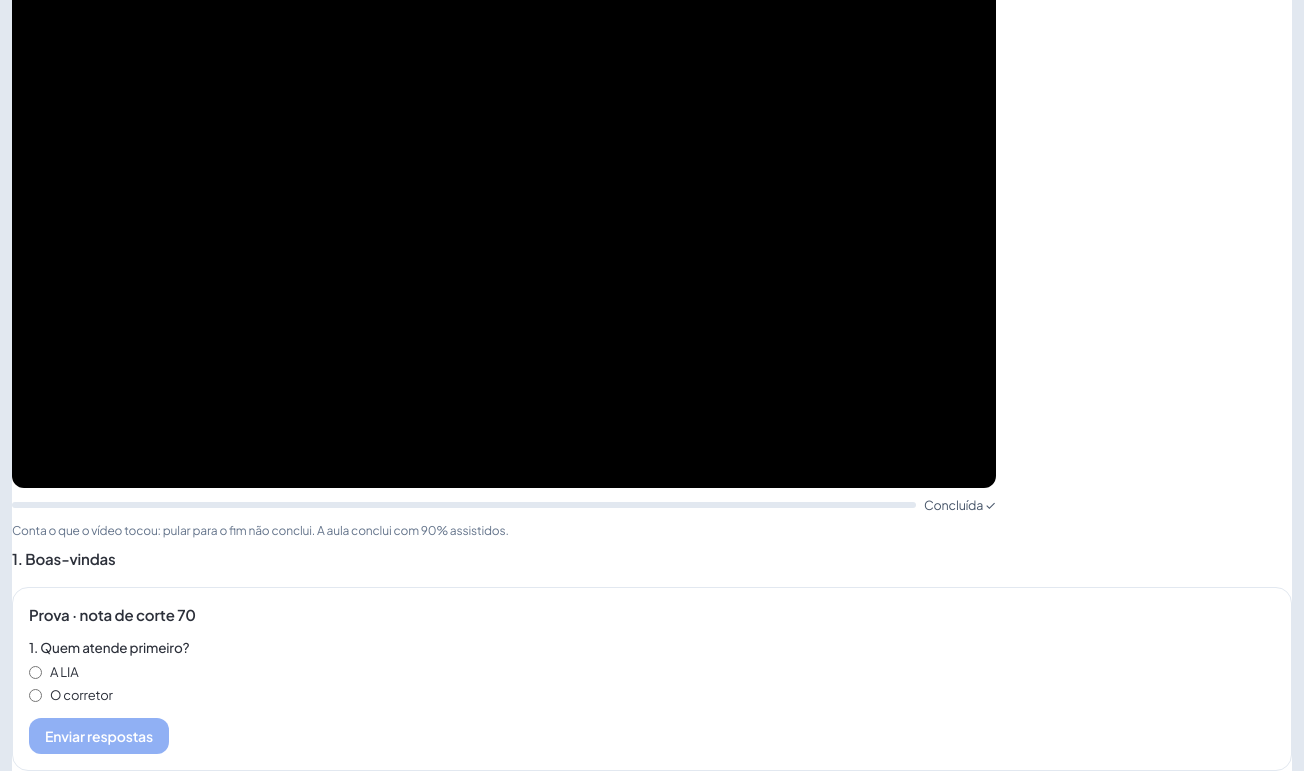
Scenario: A.7 · o curso › com as aulas vistas, responde e mostra o resultado; aprovado ganha o certificado
(page scrolled)
Click the radio button labelled "A LIA": (36, 672) [29,666,42,679]
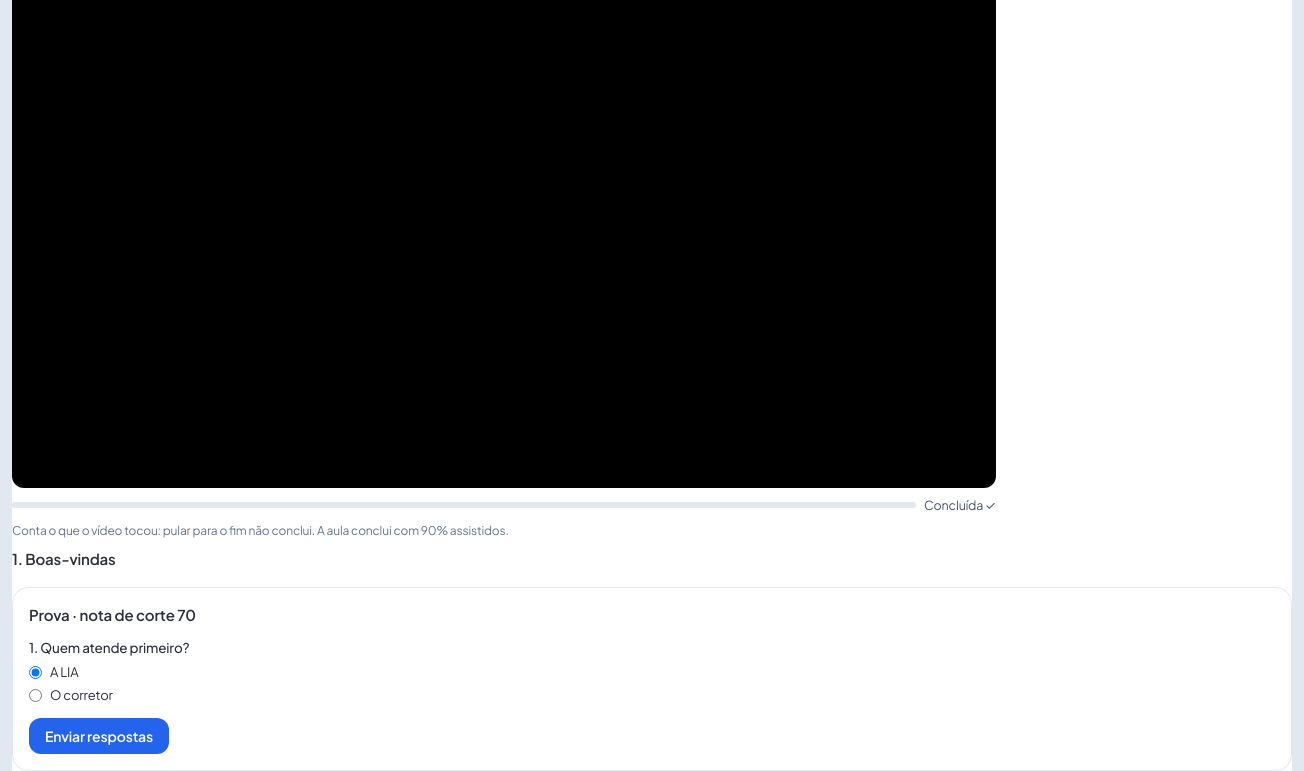
Click the button "Enviar respostas": (99, 736) [29,718,169,754]
(page scrolled)
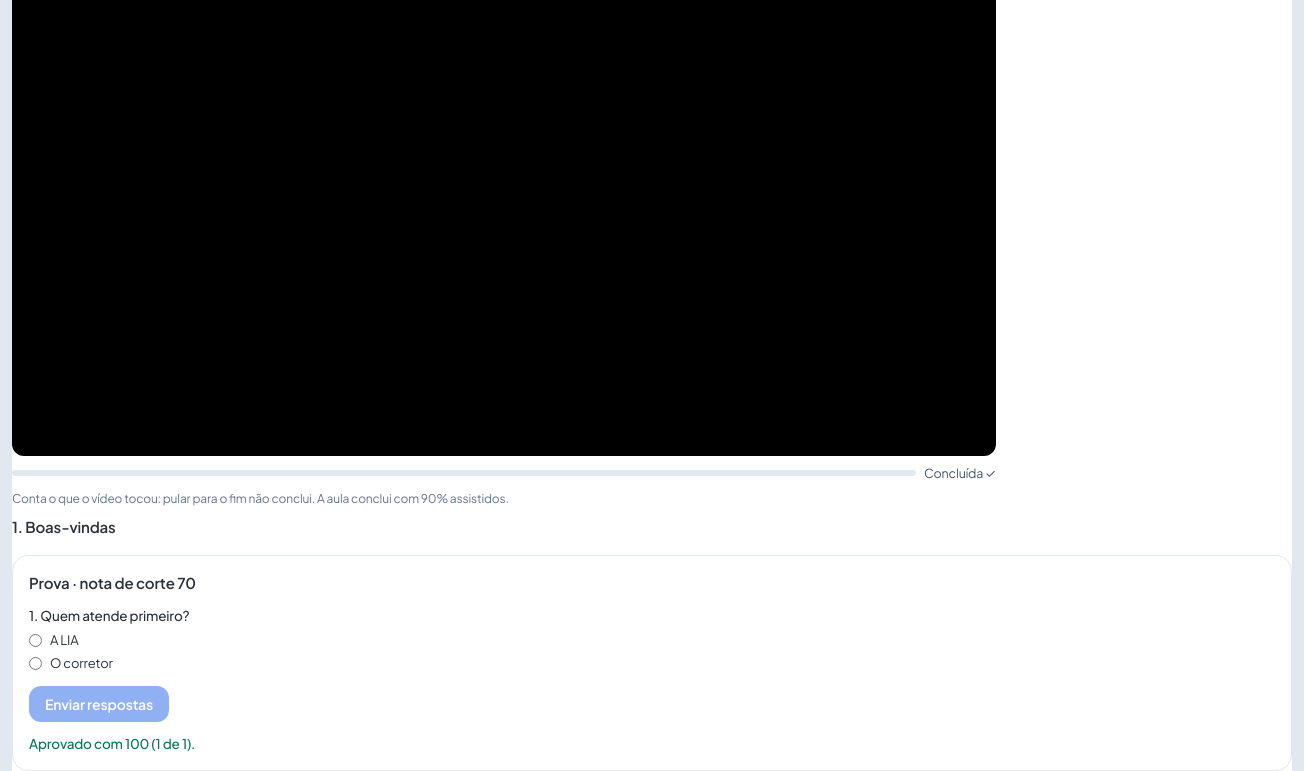
Check: the message shows "Aprovado com 100", box [29,734,195,752]
